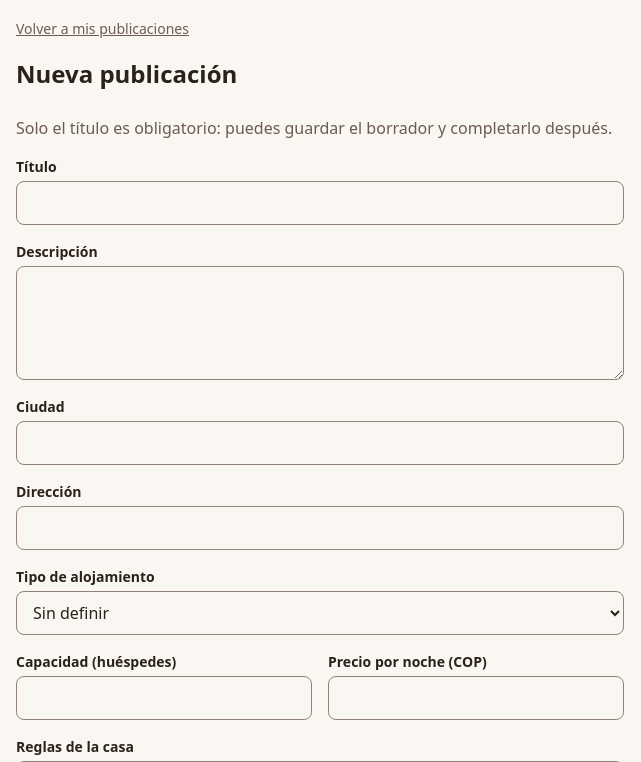
Test case: PublicacionFormPage › muestra junto a cada campo los errores que devuelve la API
In the field labelled "Título": (320, 203) [16,181,624,225], type "Casa"
(page scrolled)
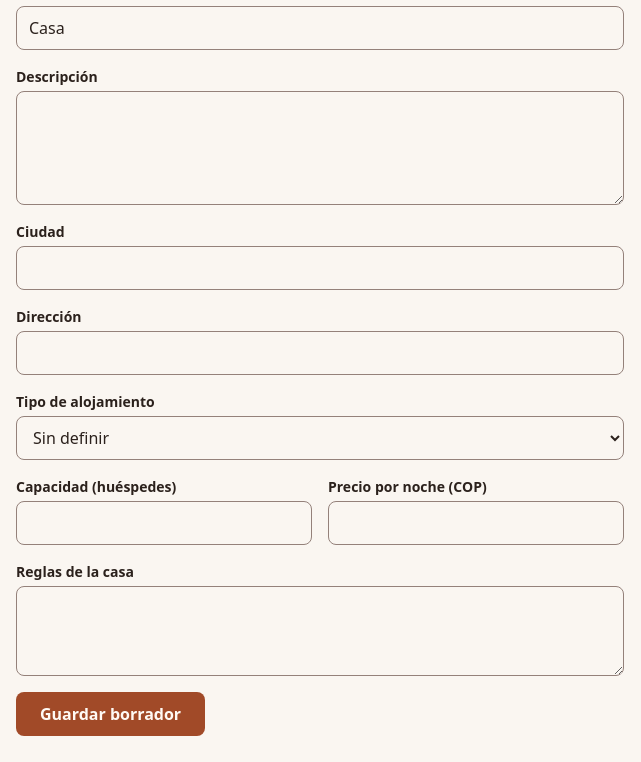
Click the button "Guardar borrador": (111, 714) [16,692,205,736]
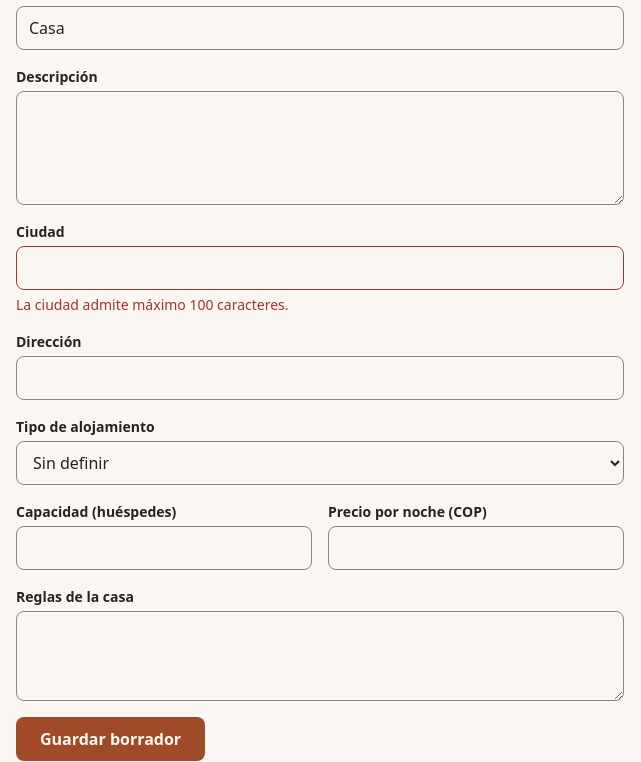
Now the text "La ciudad admite máximo 100 caracteres." is shown, box [16,295,289,314]
